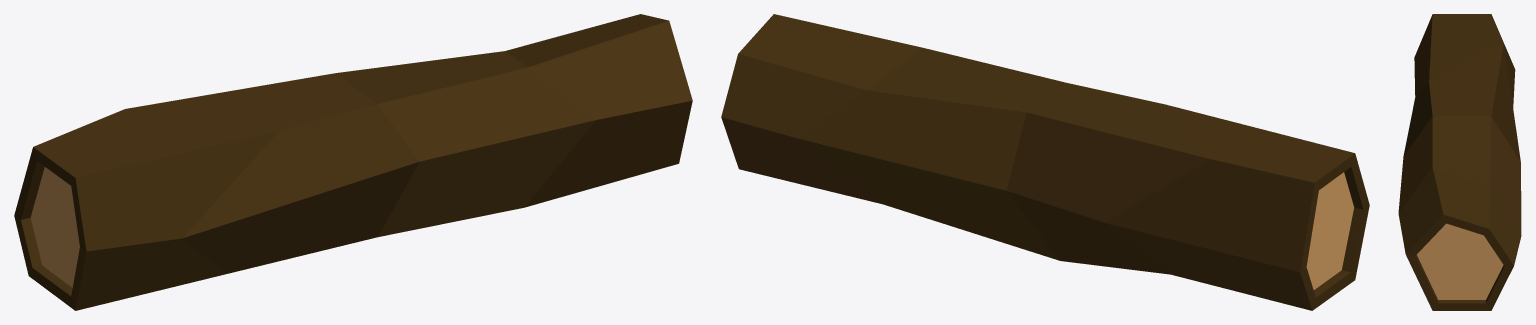
The model's file is log_01.fbx.
3 views of the same model, side by side, from view 1: azimuth 30°, elevation 25°; view 2: azimuth 150°, elevation 25°; view 3: azimuth 270°, elevation 25° (orthographic). The views are drawn at different scales.
Visible parts, largest first — view 1: Cylinder; view 2: Cylinder; view 3: Cylinder.
Boxes of the visible parts, bbox=[...] form: Cylinder: bbox=[14, 14, 692, 310]; Cylinder: bbox=[721, 14, 1369, 310]; Cylinder: bbox=[1398, 14, 1521, 310].
Size of the model in its own units: 135 by 33.63 by 34.15.
